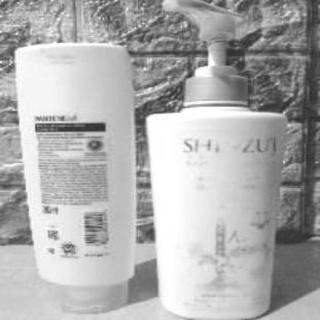objects: (13, 38, 135, 310)
